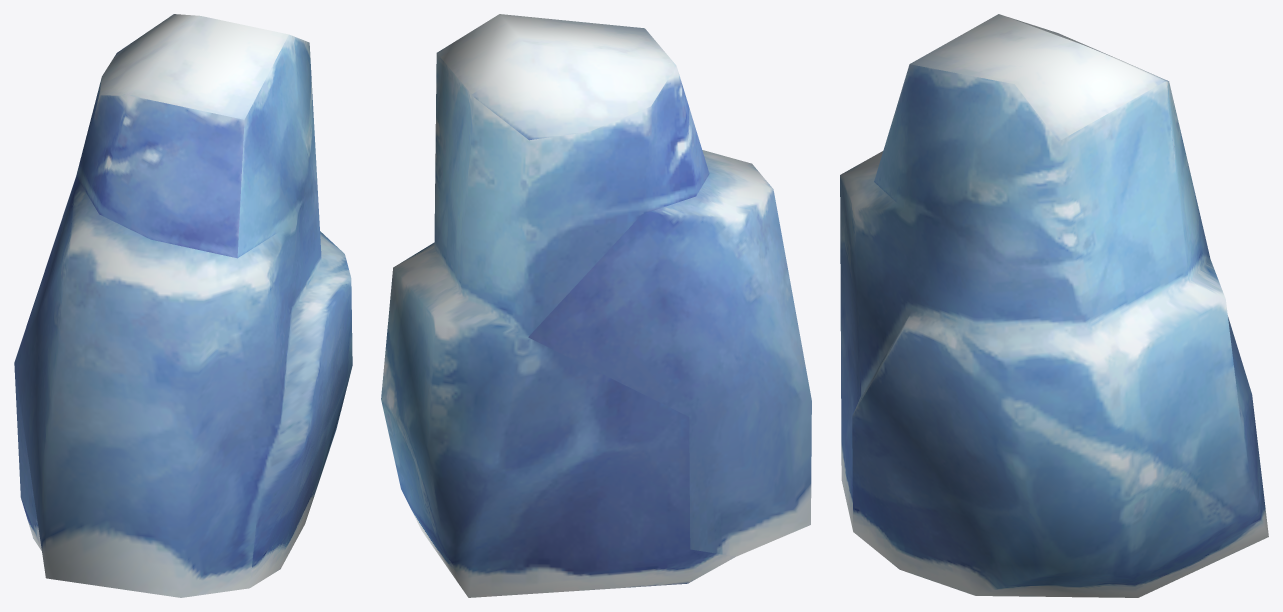
Rendered from SM_stoneB_04.fbx.
The picture shows the model from 3 angles, left to right: view 1: azimuth 30°, elevation 25°; view 2: azimuth 150°, elevation 25°; view 3: azimuth 270°, elevation 25°; orthographic projection. The views are drawn at different scales.
Visible parts, largest first — view 1: SM_stoneB_04; view 2: SM_stoneB_04; view 3: SM_stoneB_04.
Boxes of the visible parts, <box> form: SM_stoneB_04: <box>14,14,352,597</box>; SM_stoneB_04: <box>381,14,811,597</box>; SM_stoneB_04: <box>840,14,1268,597</box>.
Size of the model in its own units: 1.26 by 1.69 by 1.25.
